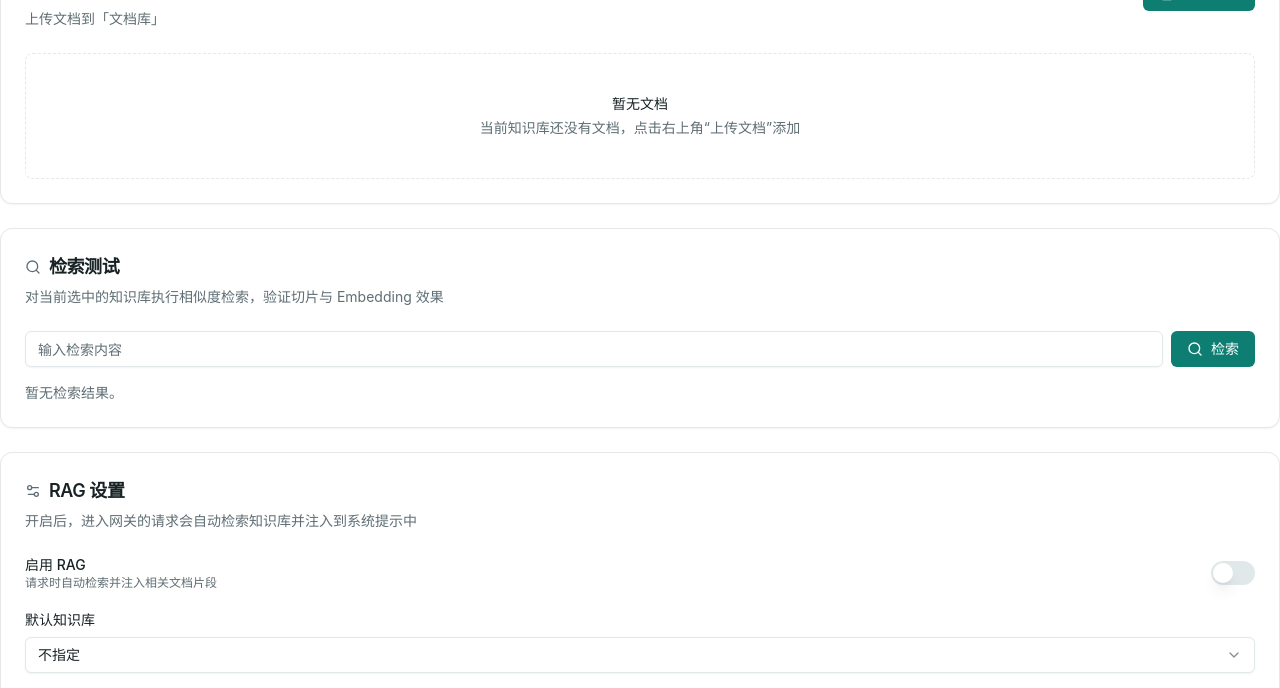
Test: KnowledgePage › 检索测试显示片段
(page scrolled)
Type "查询词" into the field with placeholder "输入检索内容". click: (594, 349)
box: [25,331,1163,367]
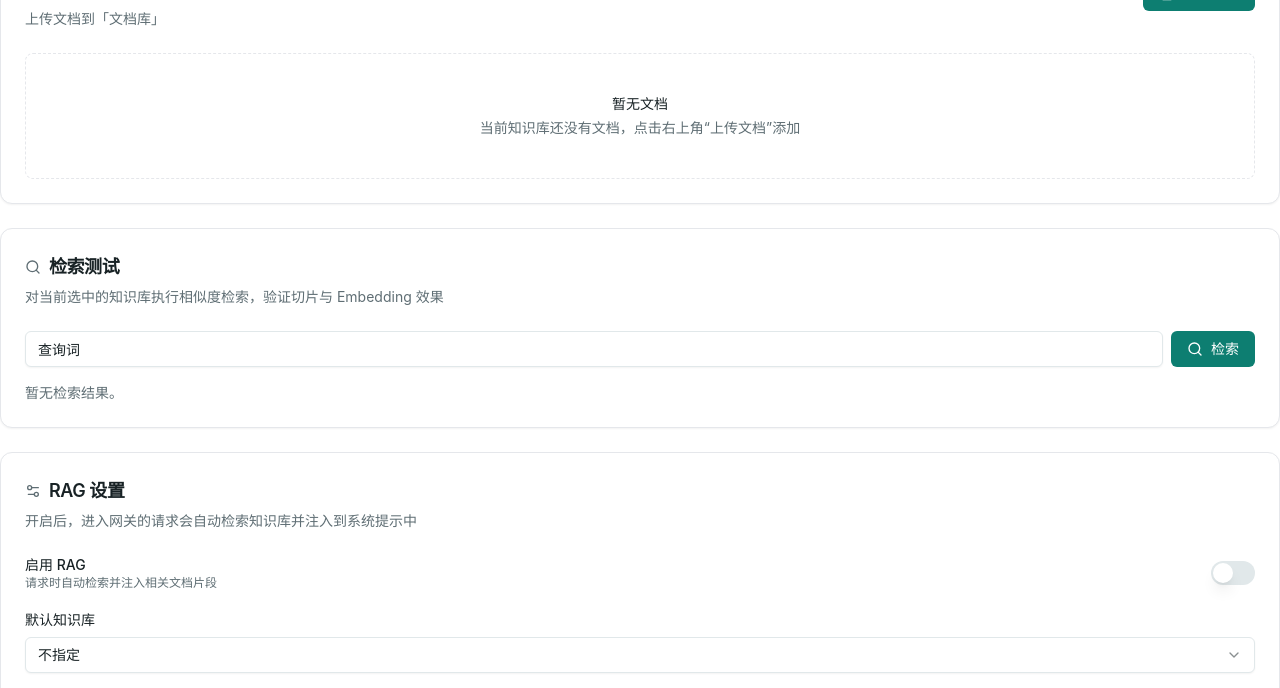
Click the button "检索". click: (1213, 349)
box: [1171,331,1255,367]
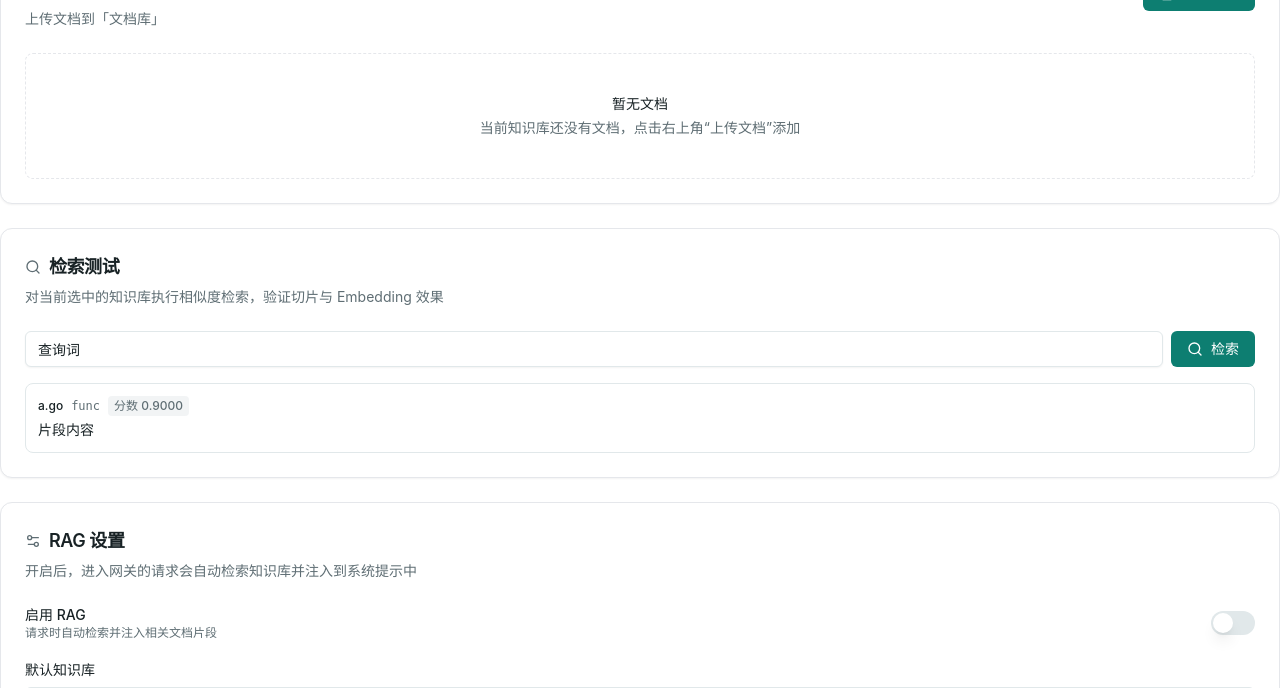
Now the text "a.go" is shown, box [38,398,63,414]
Now the text "片段内容" is shown, box [38,421,94,438]
